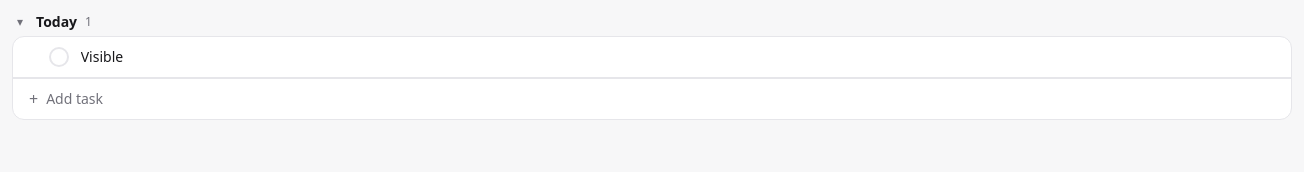
Test: SectionBlock › collapses and expands
expect the text "Visible" is shown: met, box [81, 47, 123, 66]
Click the button "▾". click: [20, 22]
box: [12, 14, 28, 30]
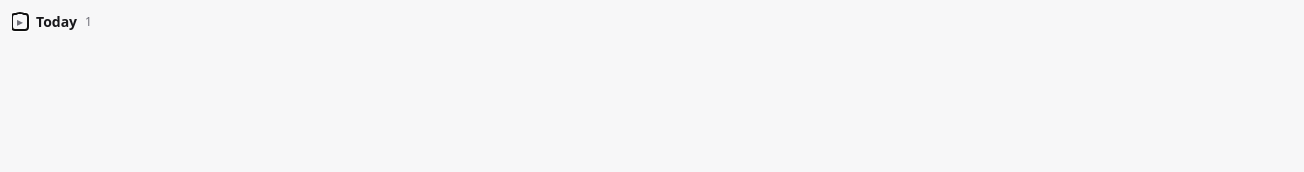
expect the text "Visible" is gone: met
